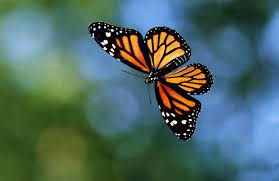insect: (87, 21, 211, 140)
